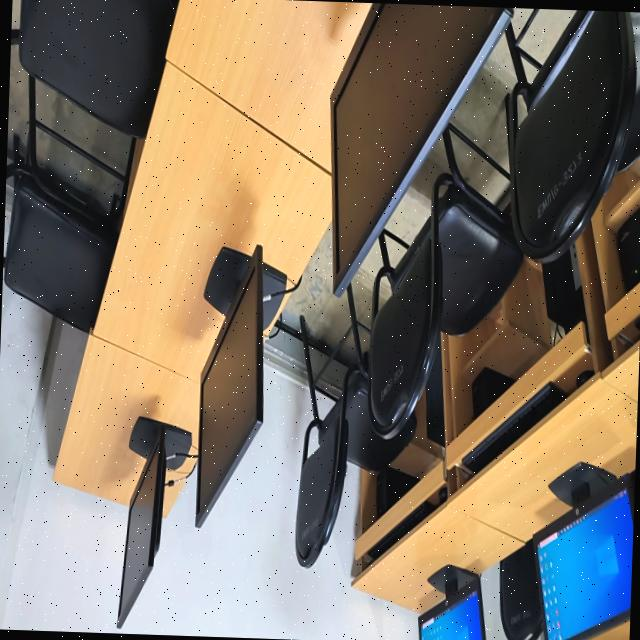Chair: (362, 212, 516, 414), (512, 7, 640, 248), (290, 388, 413, 578), (0, 132, 101, 336), (13, 0, 158, 129), (466, 379, 554, 472), (493, 555, 542, 640)
Cpu: (542, 247, 584, 325)
Monitor: (319, 0, 503, 261), (188, 242, 268, 534), (112, 414, 194, 634), (538, 488, 633, 640), (413, 561, 486, 640)
